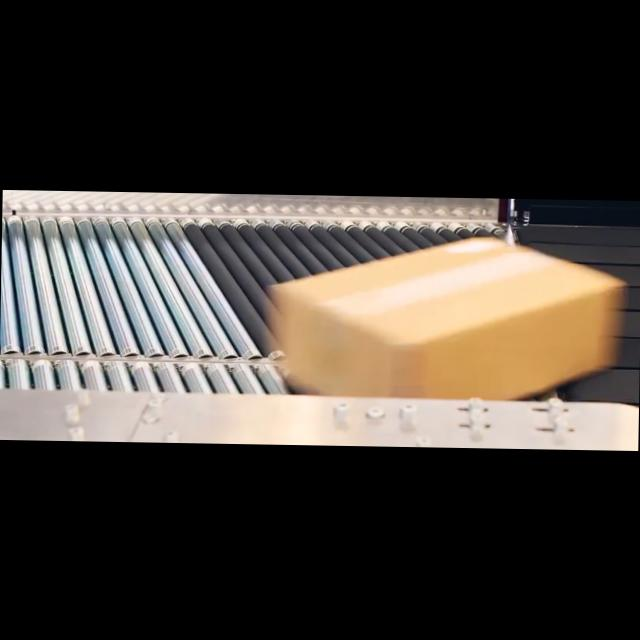box: (268, 231, 624, 405)
